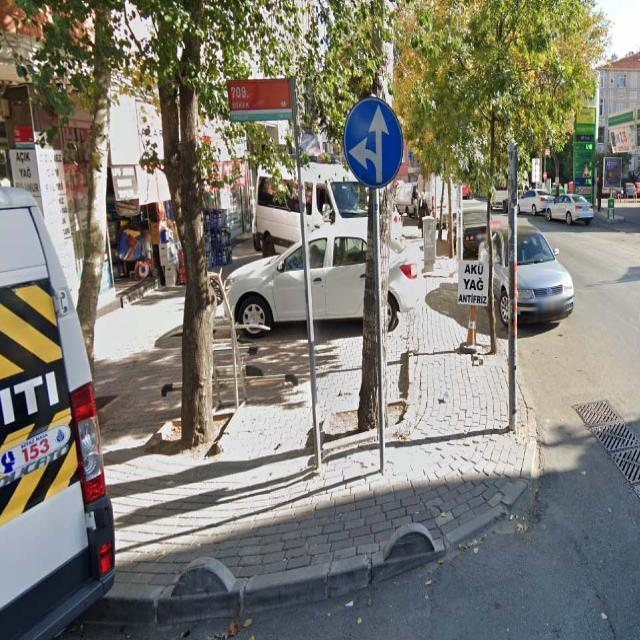ilerisol: (344, 97, 404, 188)
